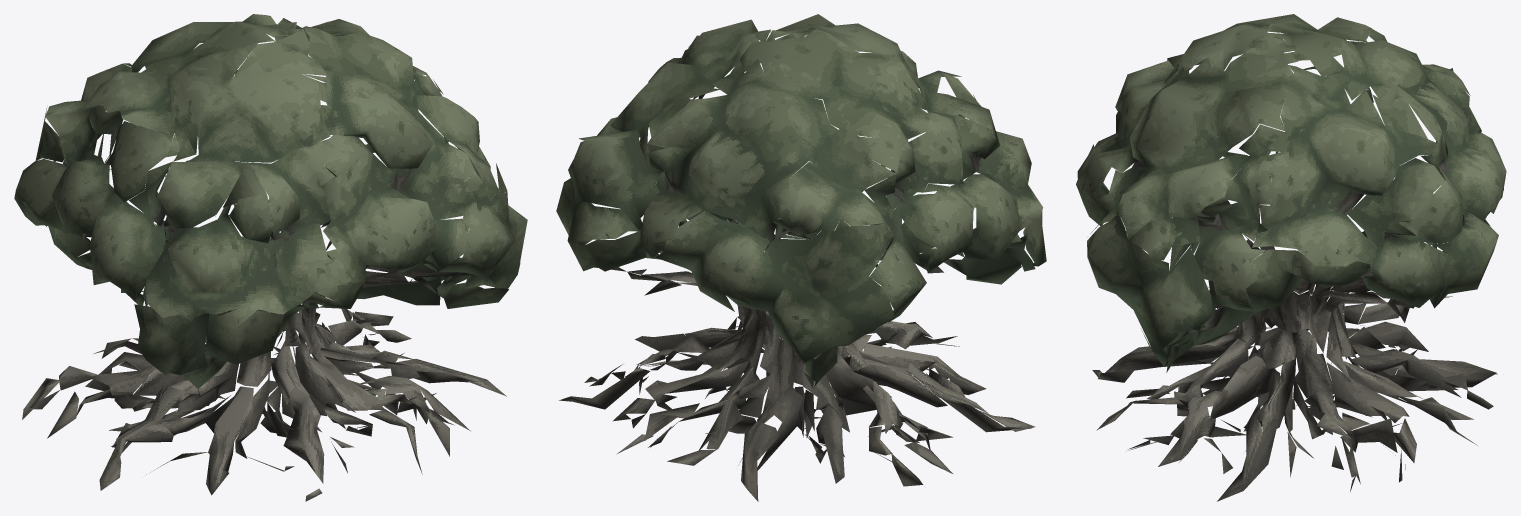
The model's file is ombu.glb.
3 views of the same model, side by side, from view 1: azimuth 30°, elevation 25°; view 2: azimuth 150°, elevation 25°; view 3: azimuth 270°, elevation 25° (orthographic). The views are drawn at different scales.
Visible parts, largest first — view 1: tripo_node_c3456570-5aef-4dab-bfa2-b7ebeaaa86ce; view 2: tripo_node_c3456570-5aef-4dab-bfa2-b7ebeaaa86ce; view 3: tripo_node_c3456570-5aef-4dab-bfa2-b7ebeaaa86ce.
Boxes of the visible parts, x1,y1,x2,y2 form: tripo_node_c3456570-5aef-4dab-bfa2-b7ebeaaa86ce: [14, 14, 527, 501]; tripo_node_c3456570-5aef-4dab-bfa2-b7ebeaaa86ce: [556, 14, 1046, 501]; tripo_node_c3456570-5aef-4dab-bfa2-b7ebeaaa86ce: [1076, 14, 1506, 501].
Bounding box in the file's own units: 1.12 × 1.01 × 1.05.
1 material, 1 textured.
